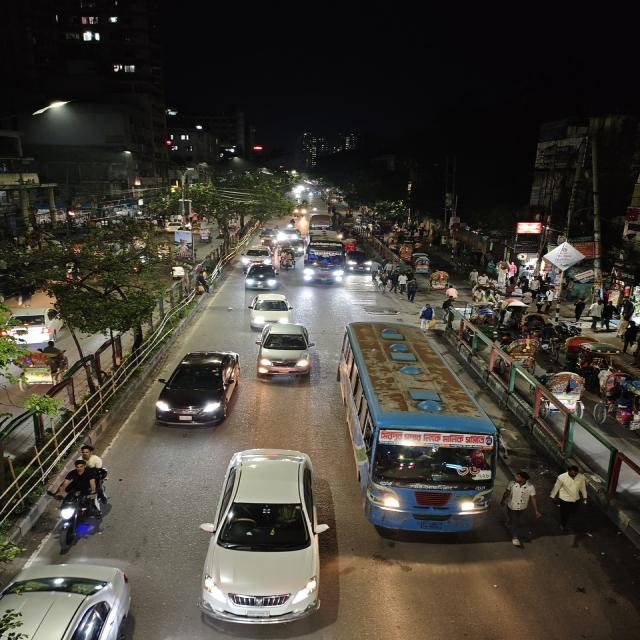bus: (338, 316, 505, 538), (301, 238, 348, 286), (307, 214, 332, 232)
car: (200, 446, 334, 635), (0, 557, 142, 640), (152, 348, 243, 434), (254, 320, 317, 382), (0, 296, 67, 340), (246, 292, 296, 327), (242, 262, 282, 292), (346, 248, 373, 272), (239, 247, 274, 265), (257, 226, 279, 246)
cng: (286, 238, 306, 254)
motorcycle: (50, 457, 117, 551), (600, 383, 640, 433), (286, 217, 300, 232)
pedestrian: (547, 463, 598, 531), (503, 469, 539, 525), (620, 320, 640, 354), (416, 303, 436, 335), (594, 299, 613, 331), (601, 300, 618, 332), (588, 298, 604, 330), (571, 296, 589, 324), (439, 300, 455, 330), (404, 278, 419, 302), (443, 282, 460, 302), (372, 270, 385, 294), (390, 270, 403, 293), (383, 274, 394, 295)
rickshaw: (536, 368, 588, 422), (12, 341, 72, 387), (428, 266, 452, 292), (278, 248, 297, 272), (411, 254, 433, 273)
